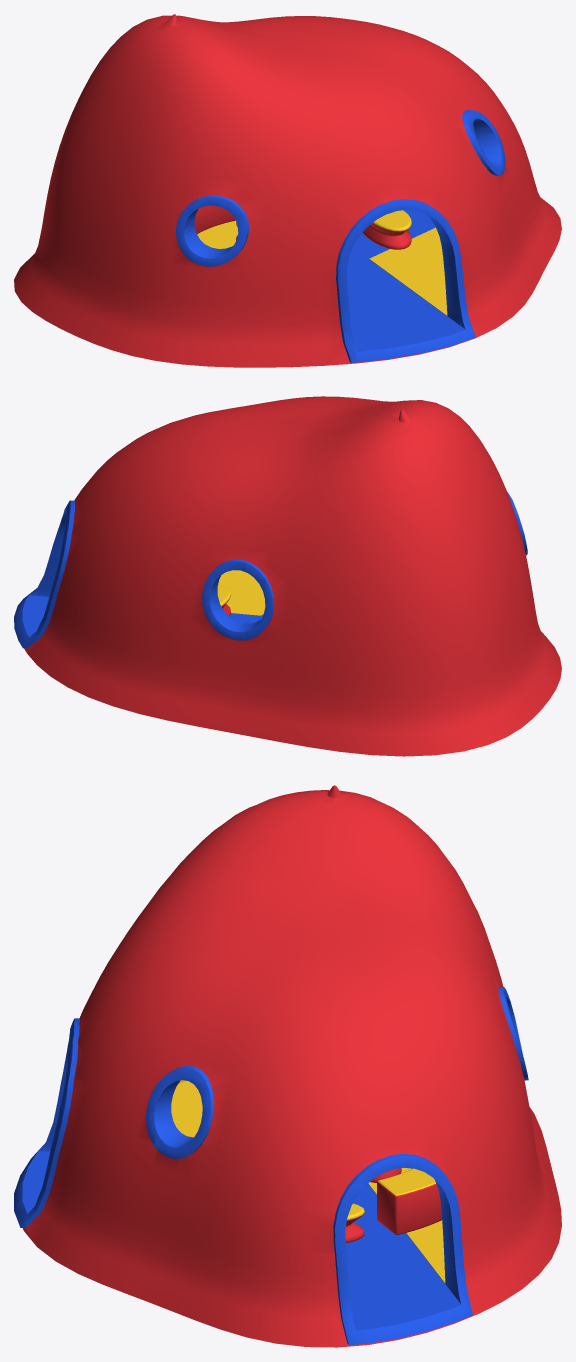
The model's file is adobe_11_broad_shoulder_hall.glb.
The picture shows the model from 3 angles, top to bottom: view 1: azimuth 30°, elevation 25°; view 2: azimuth 150°, elevation 25°; view 3: azimuth 270°, elevation 25°; orthographic projection. The views are drawn at different scales.
Parts seen in each view (by area): view 1: 11 • Broad Shoulder Hall, East plateau bench, Wall-grown crescent counter; view 2: 11 • Broad Shoulder Hall; view 3: 11 • Broad Shoulder Hall, Wall-grown crescent counter.
Part boxes in pixels (box(x1,y1,x2,y2)): 11 • Broad Shoulder Hall: box(14, 14, 561, 367); East plateau bench: box(363, 210, 411, 249); Wall-grown crescent counter: box(194, 205, 235, 233); 11 • Broad Shoulder Hall: box(14, 396, 561, 756); 11 • Broad Shoulder Hall: box(14, 785, 561, 1347); Wall-grown crescent counter: box(377, 1168, 442, 1234).
Size of the model in its own units: 9.56 by 5.02 by 7.35.
